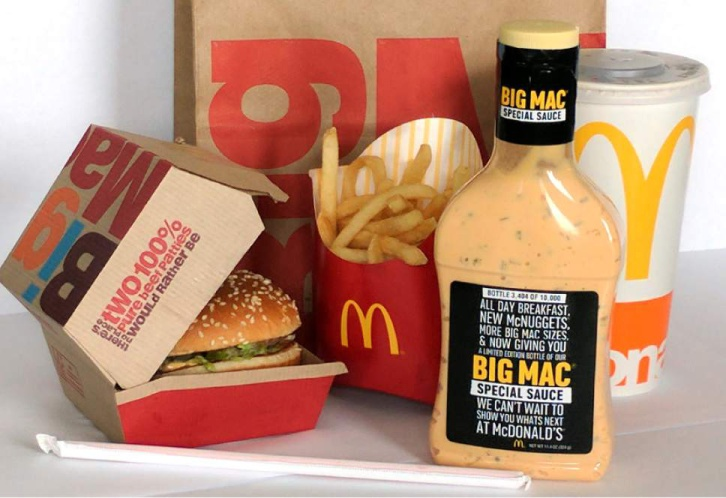mcdonalds: (335, 295, 403, 364)
